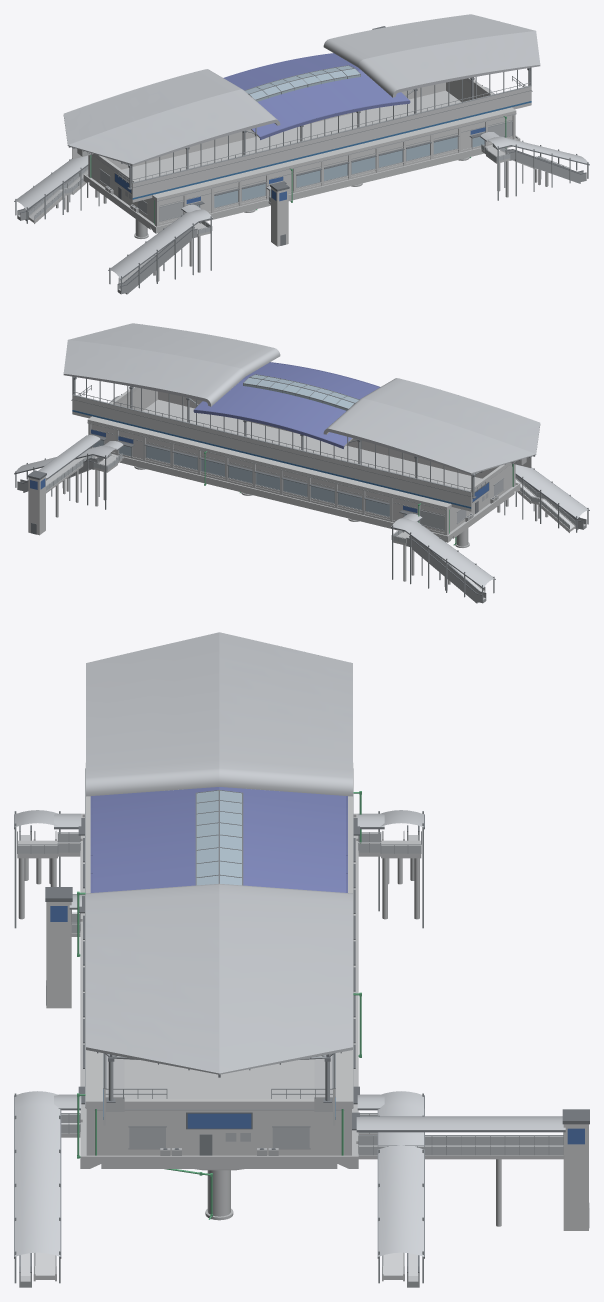
The picture shows the model from 3 angles, top to bottom: view 1: azimuth 30°, elevation 25°; view 2: azimuth 150°, elevation 25°; view 3: azimuth 270°, elevation 25°; orthographic projection. The views are drawn at different scales.
Parts seen in each view (by area): view 1: BL04, BL04_conc, BL04_access; view 2: BL04, BL04_conc, BL04_access; view 3: BL04, BL04_access, BL04_conc.
Part boxes in pixels (box(x1,y1,x2,y2)): BL04: box(63, 14, 540, 202); BL04_conc: box(83, 78, 520, 238); BL04_access: box(14, 26, 589, 294); BL04: box(63, 323, 540, 511); BL04_conc: box(87, 387, 520, 547); BL04_access: box(14, 394, 589, 603); BL04: box(86, 632, 352, 1125); BL04_access: box(14, 791, 589, 1287); BL04_conc: box(78, 763, 359, 1220).
Size of the model in its own units: 108 by 28 by 59.58.
